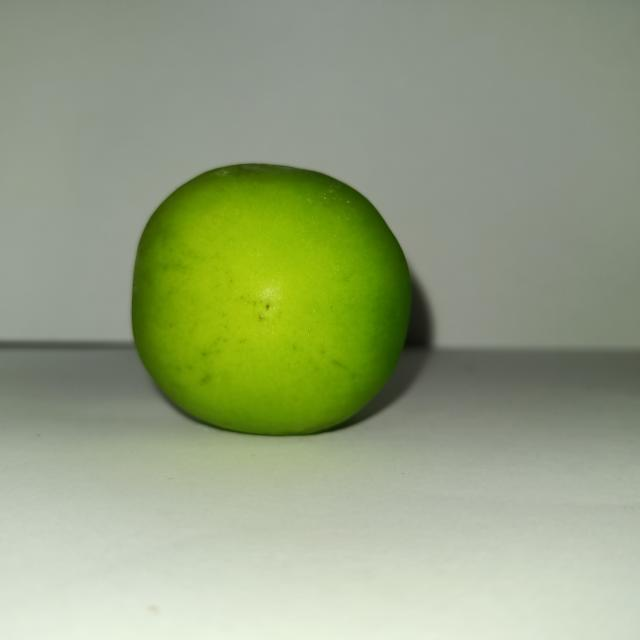Red: (129, 160, 414, 436)
